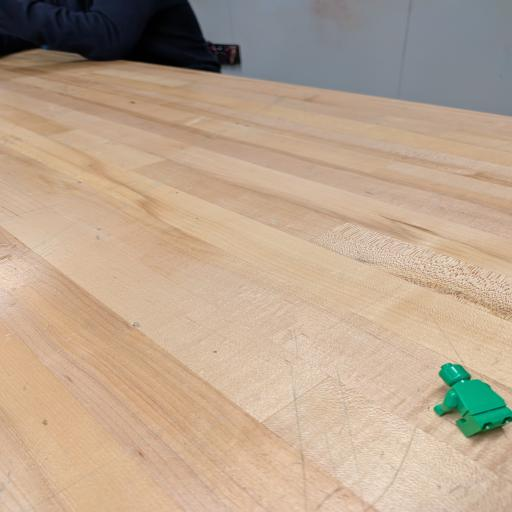Minifig: (434, 363, 512, 437)
